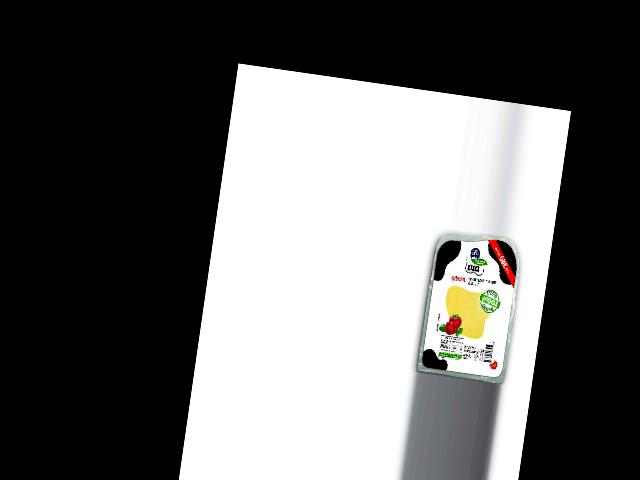cheese: (416, 226, 524, 384)
